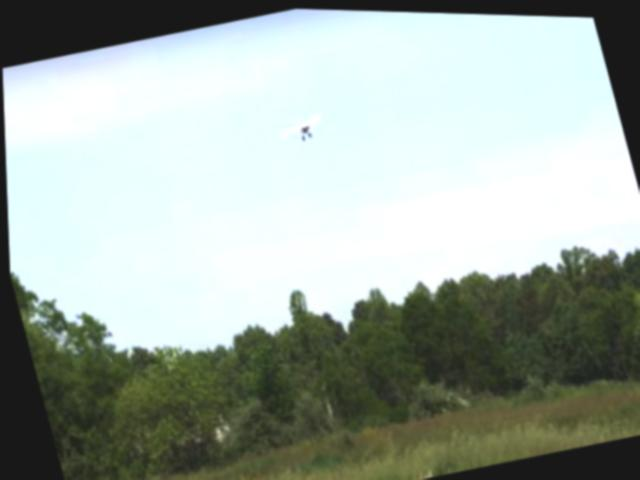uav: (274, 103, 331, 150)
